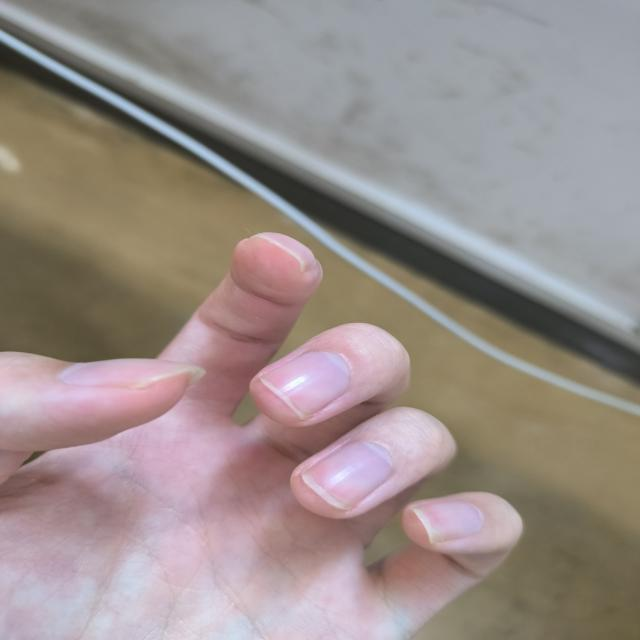Nail: (303, 441, 396, 510), (259, 351, 351, 419), (60, 359, 200, 386), (413, 501, 483, 542)
